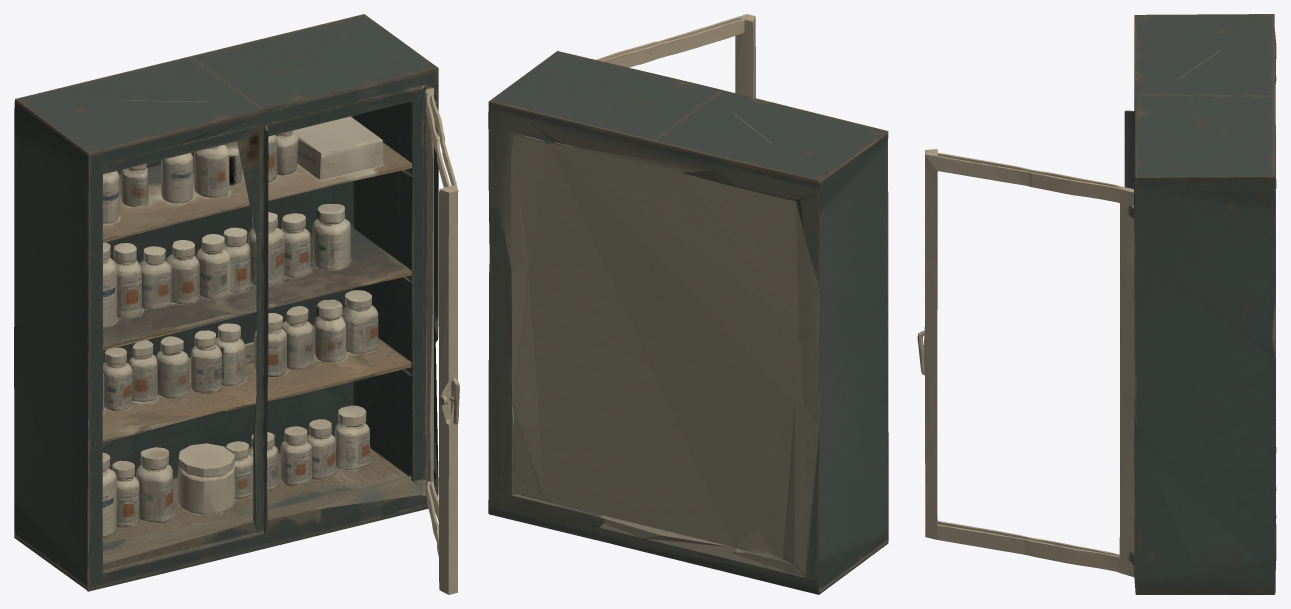
Rendered from armadietto_A.glb.
The picture shows the model from 3 angles, left to right: view 1: azimuth 30°, elevation 25°; view 2: azimuth 150°, elevation 25°; view 3: azimuth 270°, elevation 25°; orthographic projection. The views are drawn at different scales.
Bounding box in the file's own units: 1.59 × 1.9 × 1.48.
1 material, 1 textured.
